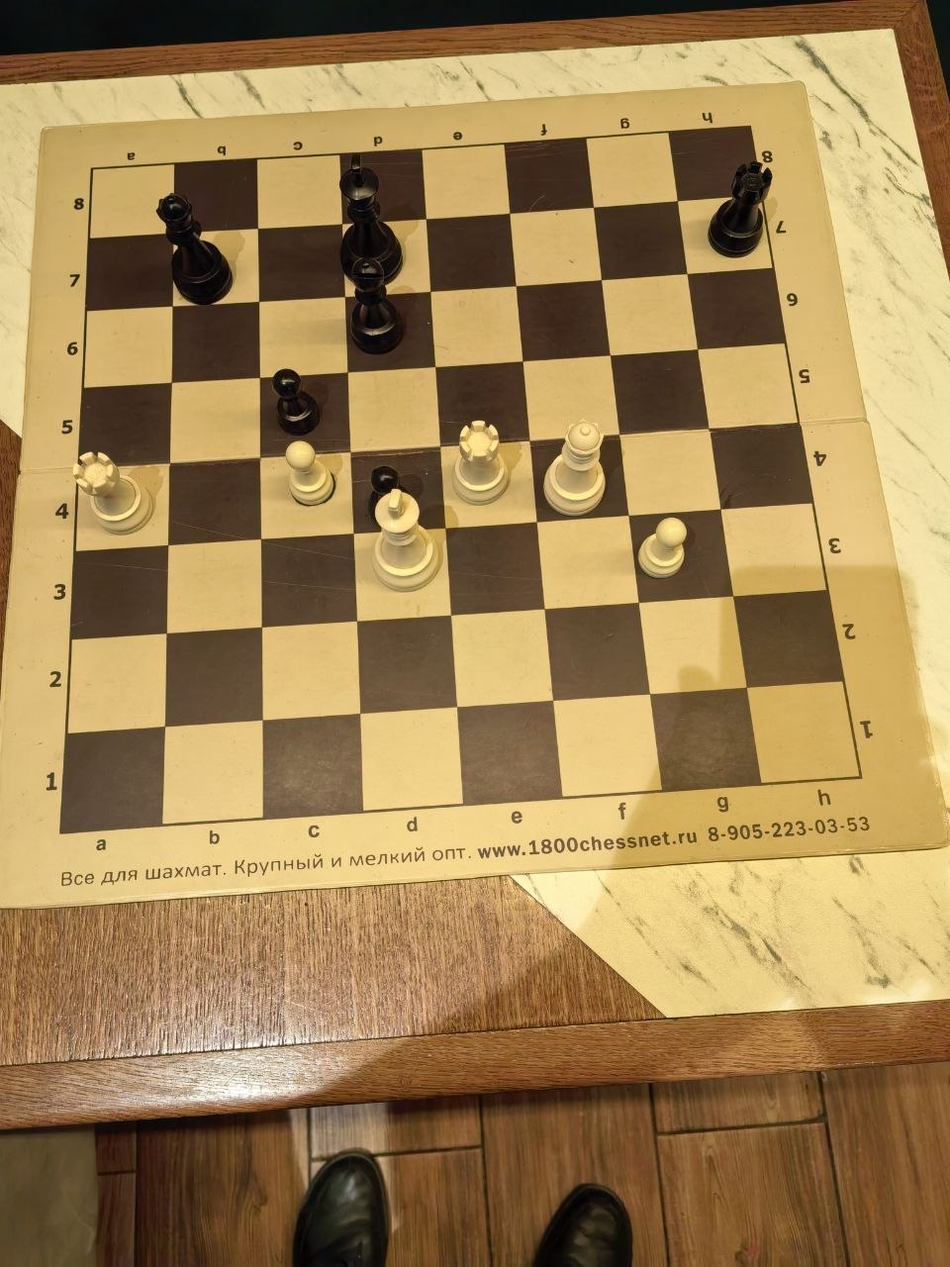black-bishop: (356, 792, 475, 950)
black-king: (594, 634, 712, 792)
black-knight: (0, 634, 119, 792), (475, 634, 594, 792)
black-rook: (712, 792, 831, 950), (238, 634, 356, 792)
white-bishop: (356, 158, 475, 317)
white-king: (119, 158, 238, 317)
white-knight: (831, 158, 950, 317)
white-pawn: (356, 317, 475, 475)
white-rook: (356, 634, 475, 792), (238, 475, 356, 634)
